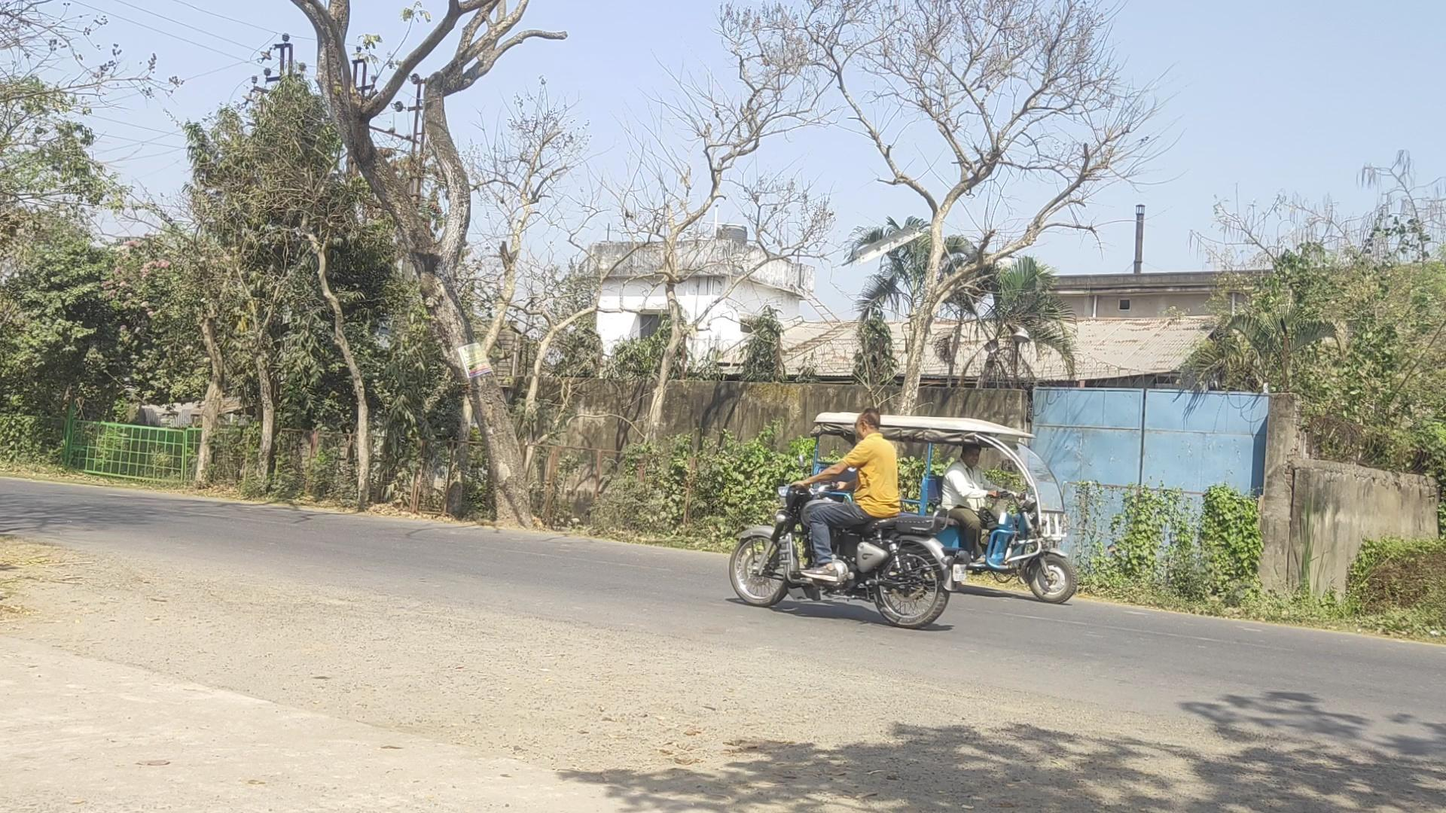Auto: (808, 411, 1078, 604)
bike: (728, 408, 969, 629)
